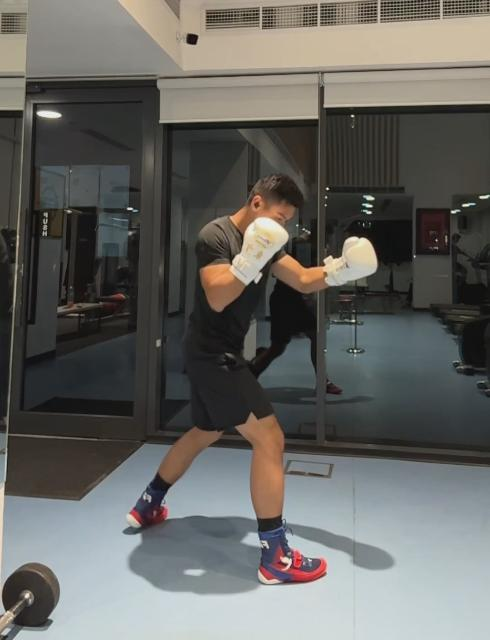punch: (124, 171, 378, 589)
